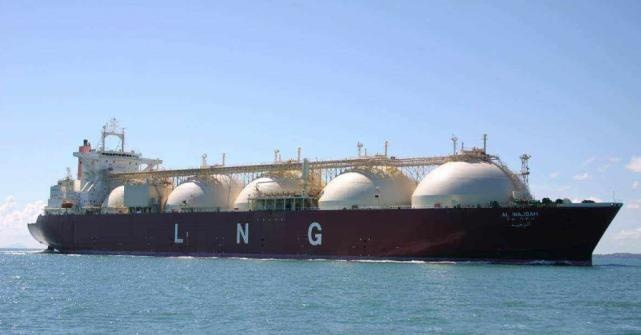Cargoship: (24, 114, 624, 266)
